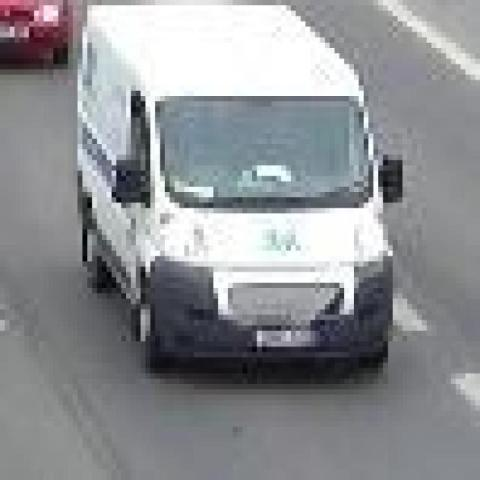van: (75, 0, 395, 374)
